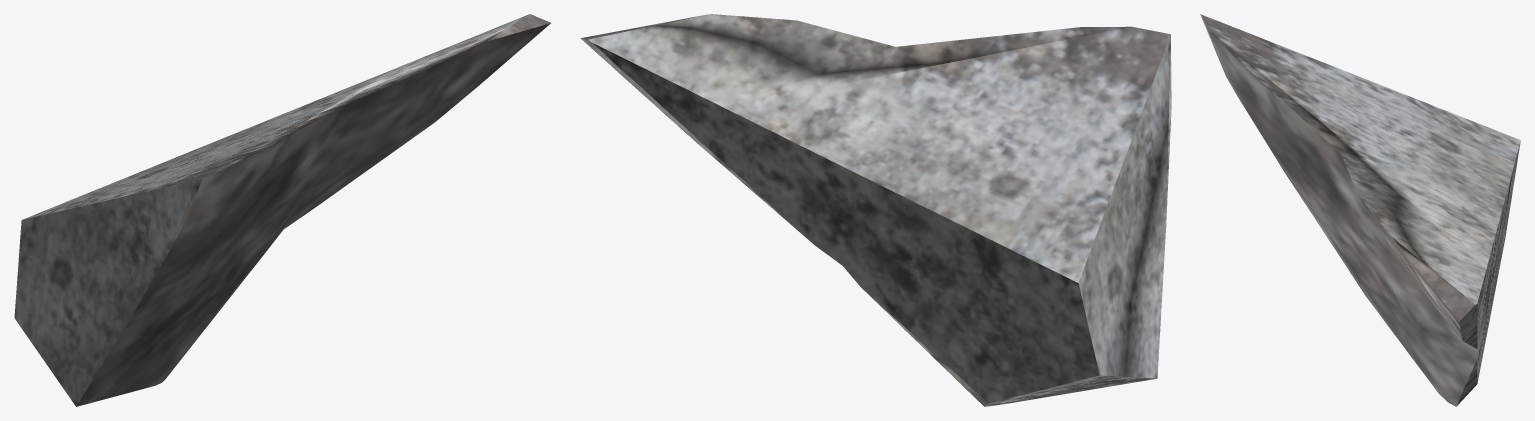
File: Asteroid_Large_001_02_004_03_014.fbx
3 renders of one model, left to right at view 1: azimuth 30°, elevation 25°; view 2: azimuth 150°, elevation 25°; view 3: azimuth 270°, elevation 25°, orthographic. The views are drawn at different scales.
Parts seen in each view (by area): view 1: Asteroid_Large_001_02_004_03_014; view 2: Asteroid_Large_001_02_004_03_014; view 3: Asteroid_Large_001_02_004_03_014.
Boxes of the visible parts, box(x1,y1,x2,y2) form: Asteroid_Large_001_02_004_03_014: box(14, 14, 550, 406); Asteroid_Large_001_02_004_03_014: box(580, 14, 1171, 406); Asteroid_Large_001_02_004_03_014: box(1200, 14, 1520, 406).
Bounding box in the file's own units: 8.1 × 4.46 × 3.66.
